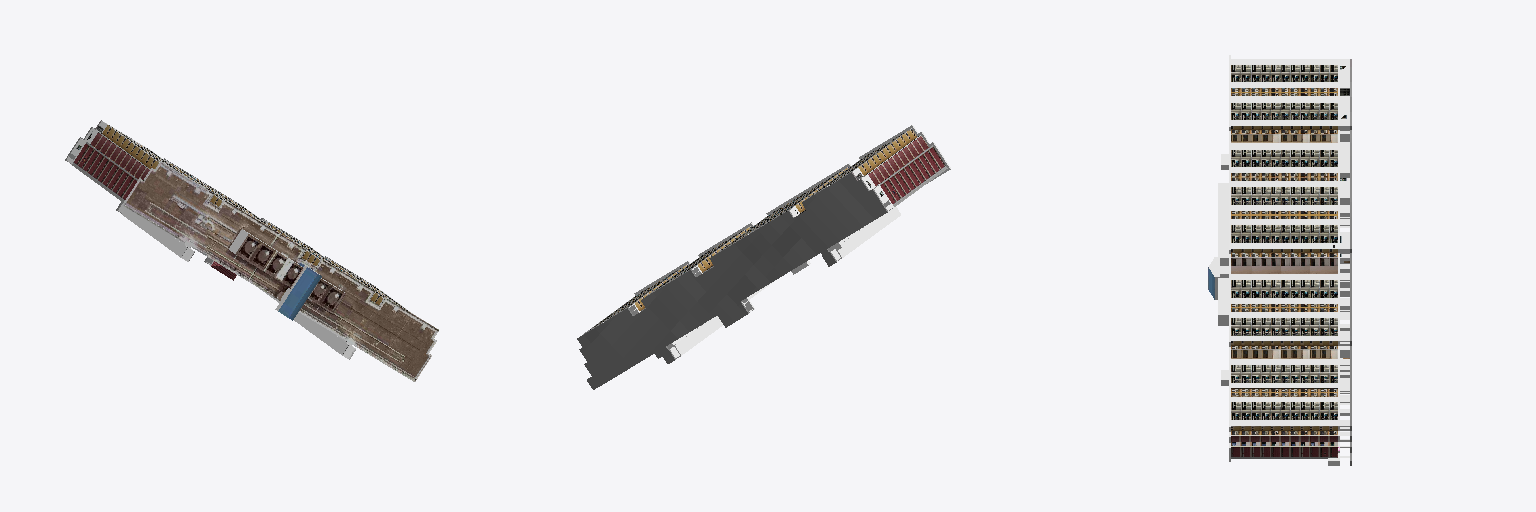
3 renders of one model, left to right at view 1: azimuth 30°, elevation 25°; view 2: azimuth 150°, elevation 25°; view 3: azimuth 270°, elevation 25°, orthographic.
Parts seen in each view (by area): view 1: polygon.802; view 2: polygon.802; view 3: polygon.802.
Part boxes in pixels (bbox=[...]): polygon.802: bbox=[65, 120, 438, 381]; polygon.802: bbox=[577, 125, 950, 389]; polygon.802: bbox=[1208, 55, 1351, 465].
Size of the model in its own units: 105 by 89.84 by 41.01.
1 materials, 1 textured.